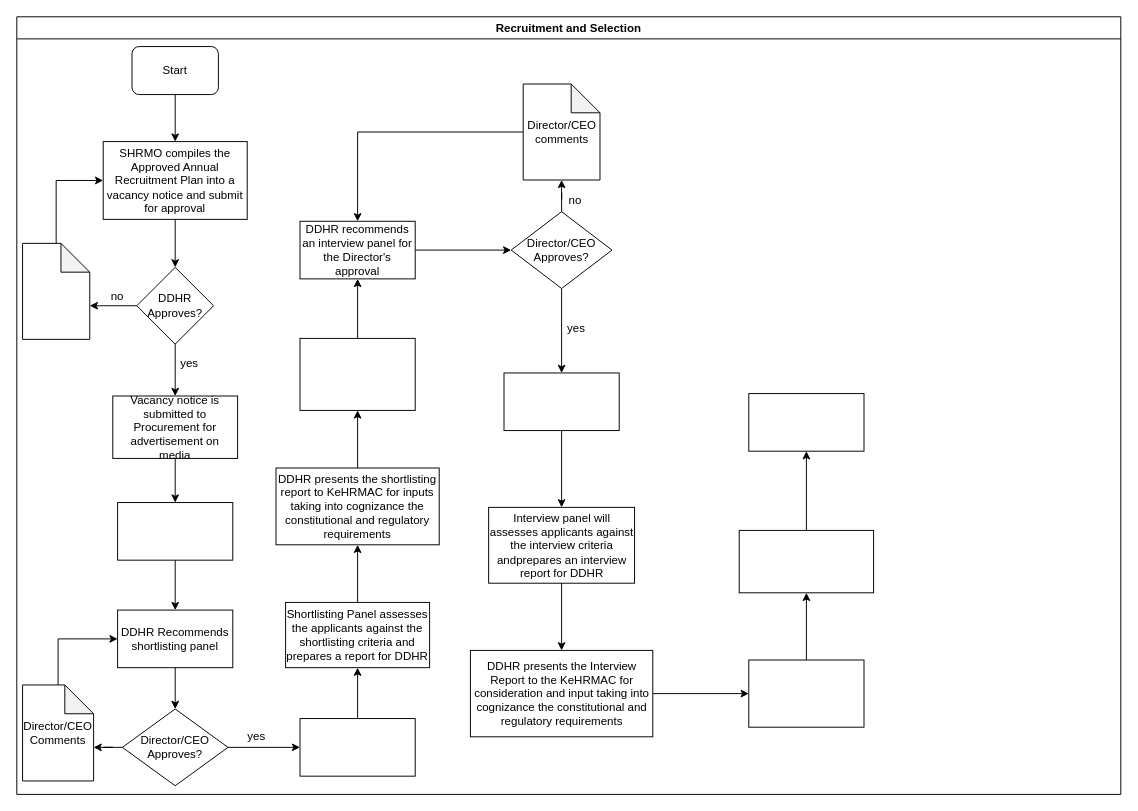
This 1138x811 diagram has some shape labels left out. The centre of each missing label's shape, as x and y in pixels:
DDHR Comments: (x=56, y=290)
DDHR presents the Interview Report to the HRC for concurrence and input: (x=806, y=561)
DDHR Receive applications until closure: (x=175, y=531)
Director appoints the interview Panel: (x=561, y=401)
Director appoints the shortlisting panel: (x=357, y=747)
SHRMO compiles the inputs given by KeHRMAC into the shortlisting report: (x=357, y=373)
SHRMO incorporates HRC’s inputs into the interview report: (x=806, y=422)
SHRMO incorporates KeHRMAC's inputs into the interview report for DDHR: (x=806, y=693)
